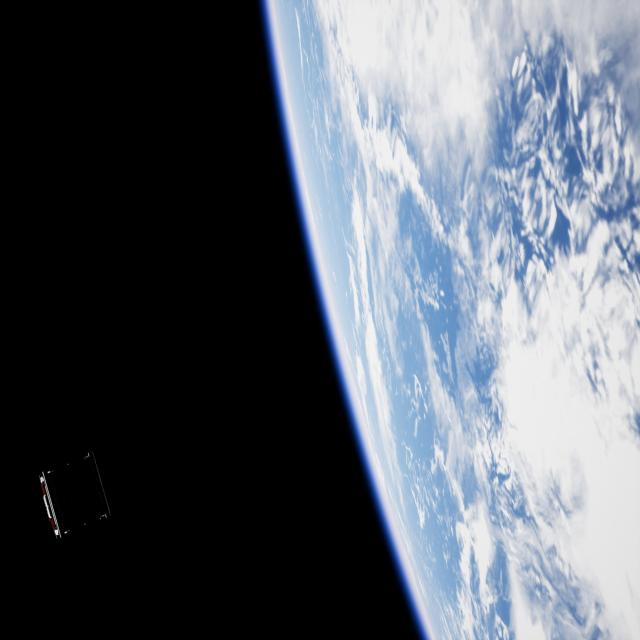medium_debris: (32, 450, 122, 542)
